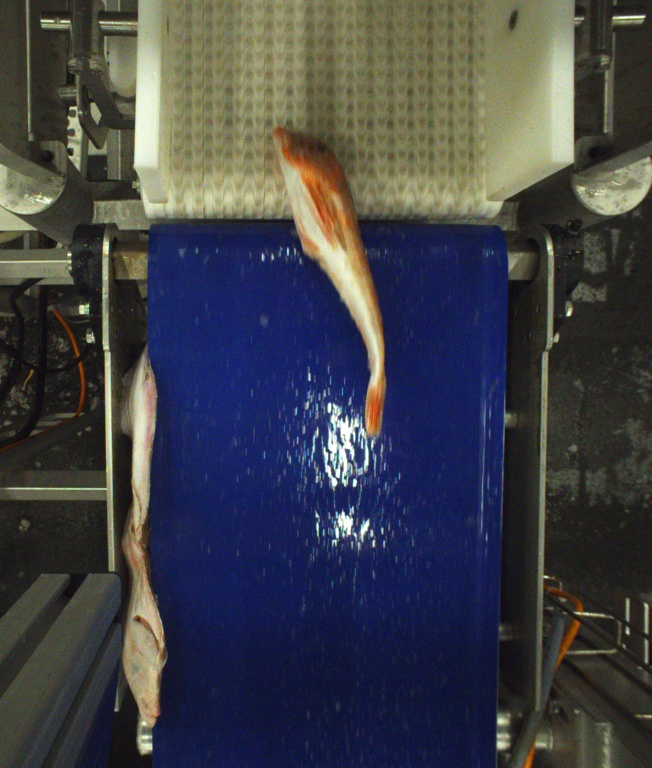GUU: (270, 123, 390, 439)
